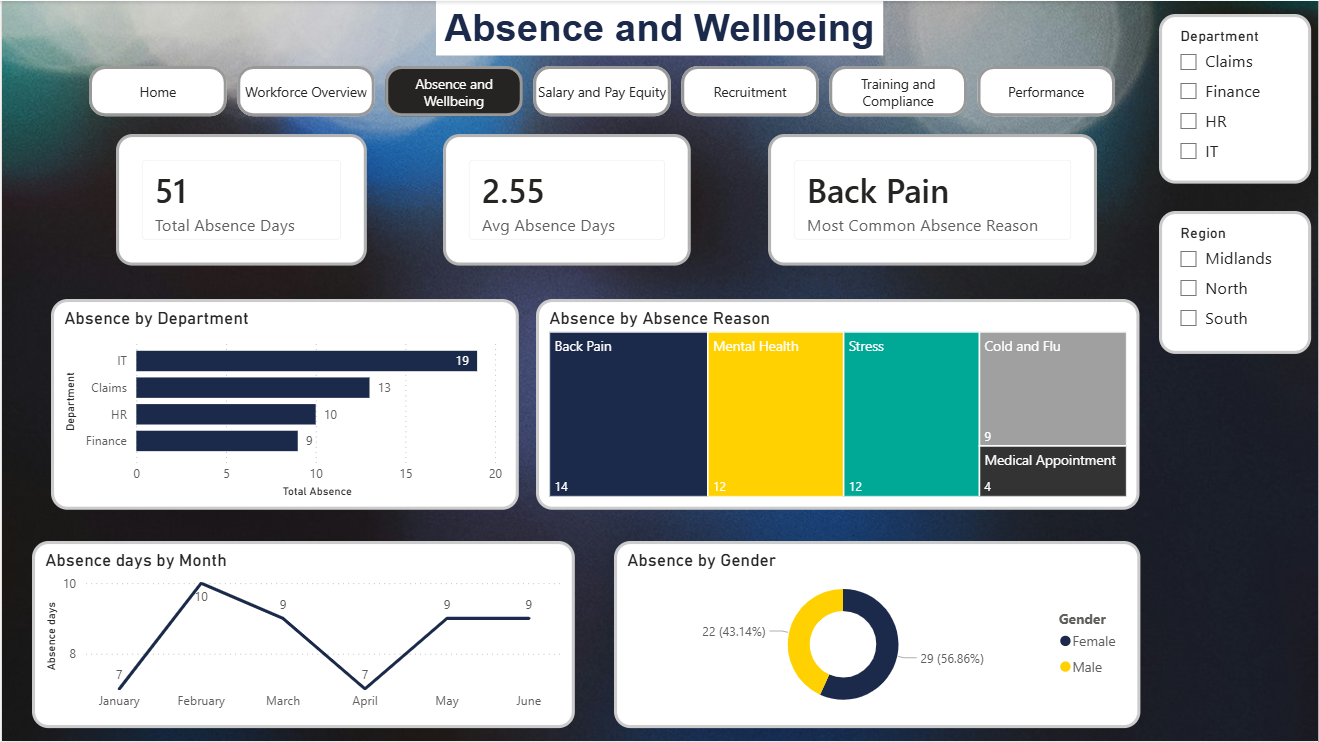

This screenshot's page, from the dashboard's own definition file:
{"tool":"powerbi","page":{"name":"Absence and Wellbeing","canvas":[1280,720],"ordinal":2},"visuals":[{"type":"textbox","box":[422.6,0,434.8,53.5],"z":0},{"type":"pageNavigator","box":[300.1,70,679.9,49.6],"z":1000},{"type":"cardVisual","fields":{"Data":["Sum(vw_AbsenceAnalysis.DaysAbsent)"]},"box":[110.9,129.4,244.1,149.8],"z":2000},{"type":"cardVisual","fields":{"Data":["Avg(vw_AbsenceAnalysis.DaysAbsent)"]},"box":[430.9,129.4,241.2,149.8],"z":3000},{"type":"cardVisual","fields":{"Data":["vw_AbsenceAnalysis.Most Common Absence Reason"]},"box":[745,129.4,320,149.8],"z":4000},{"type":"clusteredBarChart","title":"Absence by Department","fields":{"Category":["vw_AbsenceAnalysis.Department"],"Y":["Sum(vw_AbsenceAnalysis.DaysAbsent)"]},"box":[47.7,289.8,464,205.2],"z":5000},{"type":"clusteredBarChart","title":"Absence by Absence Reason","fields":{"Category":["vw_AbsenceAnalysis.AbsenceReason"],"Y":["Sum(vw_AbsenceAnalysis.DaysAbsent)"]},"box":[584.6,289.8,529.1,214],"z":6000},{"type":"lineChart","fields":{"Category":["vw_AbsenceAnalysis.AbsenceDate.Variation.Date Hierarchy.Month"],"Y":["Sum(vw_AbsenceAnalysis.DaysAbsent)"]},"box":[29.2,519.4,490.2,194.5],"z":7000},{"type":"donutChart","fields":{"Category":["vw_AbsenceAnalysis.Gender"],"Y":["Sum(vw_AbsenceAnalysis.DaysAbsent)"]},"box":[640,525.2,423.1,181.9],"z":8000},{"type":"slicer","fields":{"Values":["vw_AbsenceAnalysis.Department"]},"box":[1139,12.6,134.2,165.3],"z":9000},{"type":"slicer","fields":{"Values":["vw_AbsenceAnalysis.Region"]},"box":[1125.3,204.3,147.8,139.1],"z":10000}]}

Visuals, with their boxes in screenshot pixels (x1, y1, x2, y2), scaled from the page's 1280x720 canvas onto the 1319x742 screenshot:
textbox: <bbox>435, 0, 884, 55</bbox>
pageNavigator: <bbox>309, 72, 1010, 123</bbox>
cardVisual - Sum(vw_AbsenceAnalysis.DaysAbsent): <bbox>114, 133, 366, 288</bbox>
cardVisual - Avg(vw_AbsenceAnalysis.DaysAbsent): <bbox>444, 133, 693, 288</bbox>
cardVisual - vw_AbsenceAnalysis.Most Common Absence Reason: <bbox>768, 133, 1097, 288</bbox>
"Absence by Department" clusteredBarChart: <bbox>49, 299, 527, 510</bbox>
"Absence by Absence Reason" clusteredBarChart: <bbox>602, 299, 1148, 519</bbox>
lineChart - vw_AbsenceAnalysis.AbsenceDate.Variation.Date Hierarchy.Month x Sum(vw_AbsenceAnalysis.DaysAbsent): <bbox>30, 535, 535, 736</bbox>
donutChart - vw_AbsenceAnalysis.Gender x Sum(vw_AbsenceAnalysis.DaysAbsent): <bbox>660, 541, 1095, 729</bbox>
slicer - vw_AbsenceAnalysis.Department: <bbox>1174, 13, 1312, 183</bbox>
slicer - vw_AbsenceAnalysis.Region: <bbox>1160, 211, 1312, 354</bbox>
